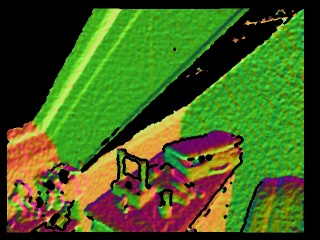station: (112, 149, 156, 211)
